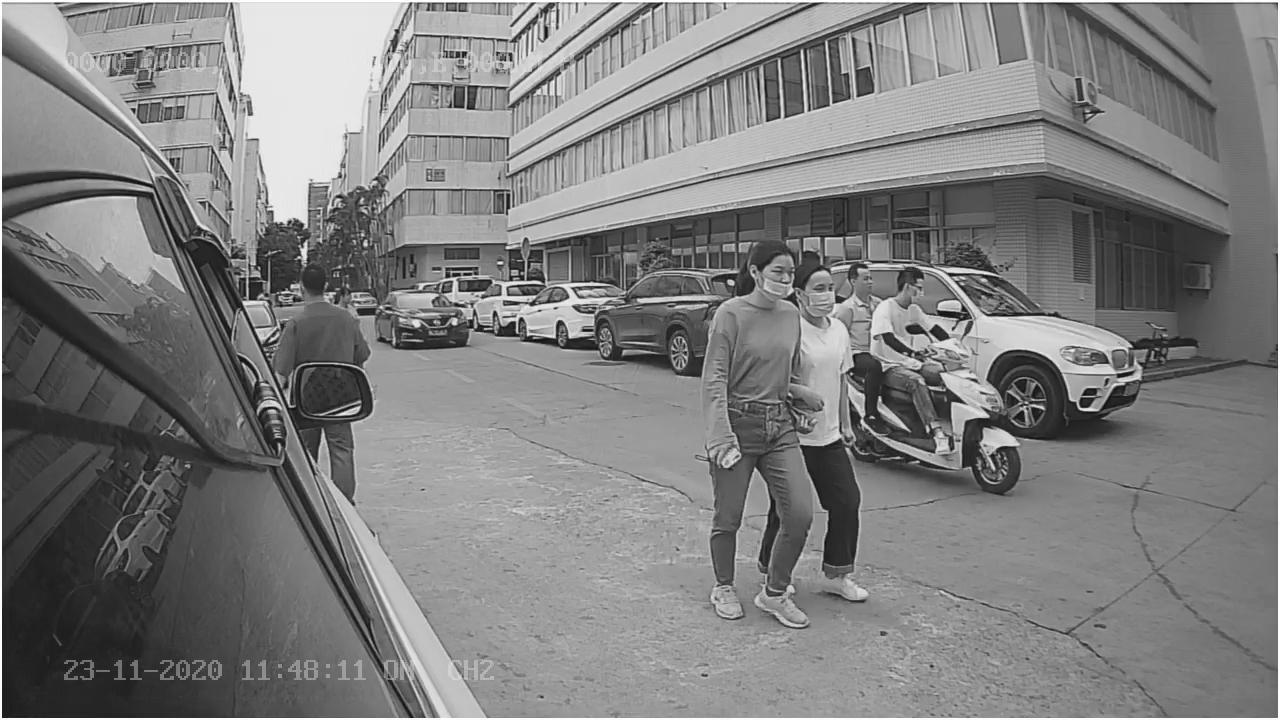person: (700, 228, 812, 632), (870, 250, 955, 361)
